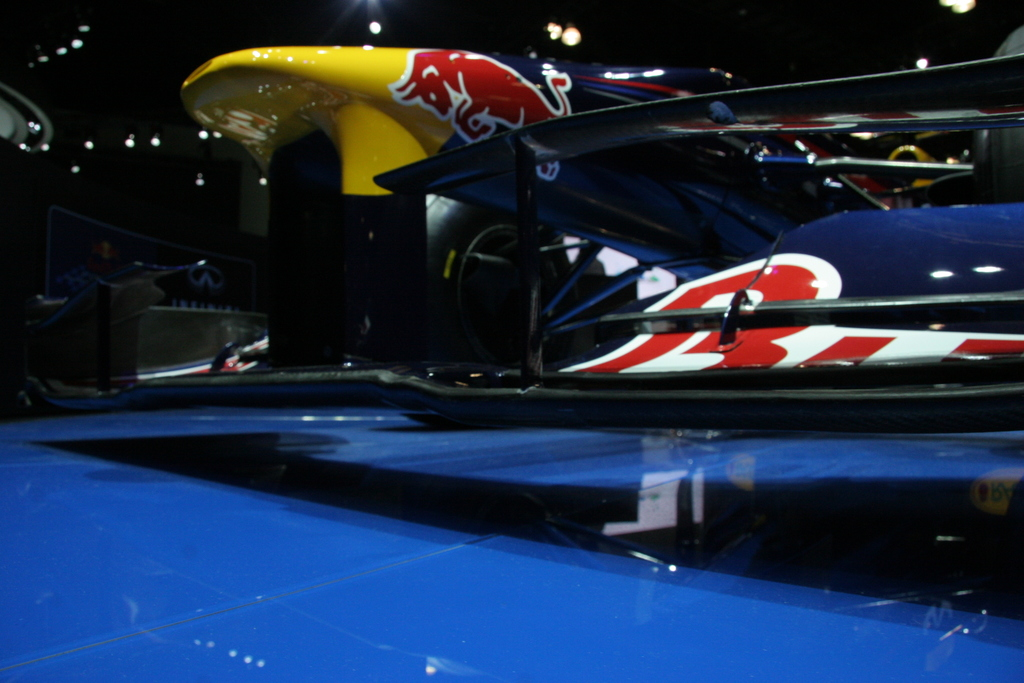Car: (0, 41, 1023, 682)
